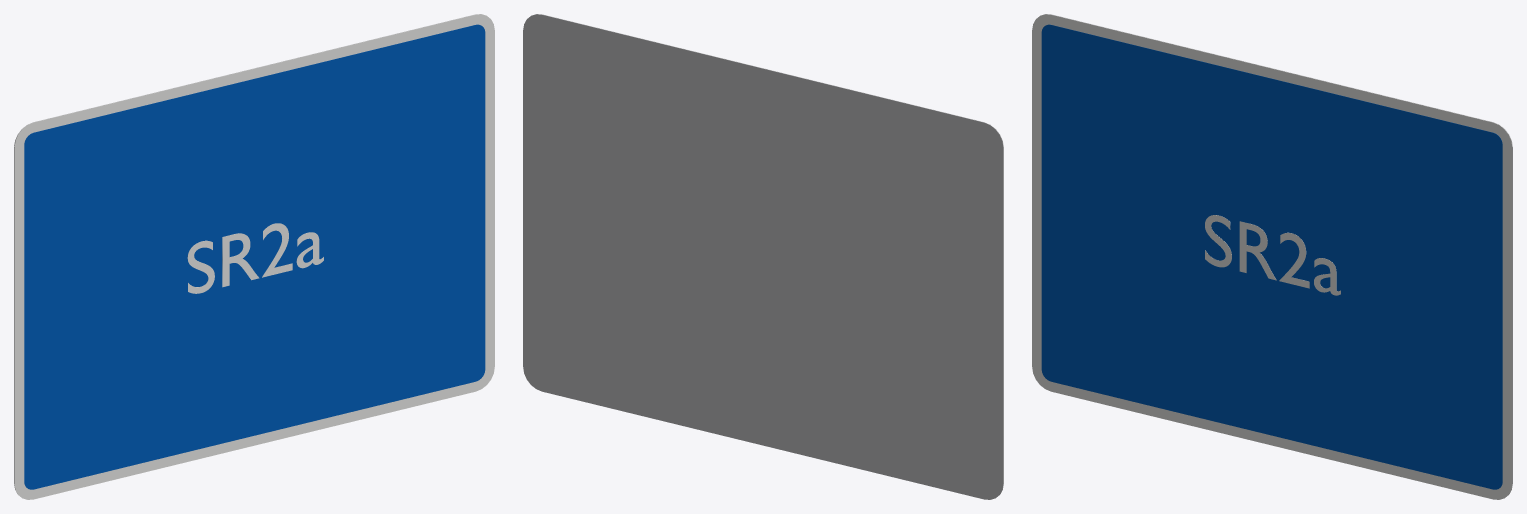
3 renders of one model, left to right at view 1: azimuth 30°, elevation 25°; view 2: azimuth 150°, elevation 25°; view 3: azimuth 330°, elevation 25°, orthographic.
Parts seen in each view (by area): view 1: SR2a_fond01, SR2a_cadre00, SR2a_txt02, SR2a_dos; view 2: SR2a_dos; view 3: SR2a_fond01, SR2a_cadre00, SR2a_txt02, SR2a_dos.
Boxes of the visible parts, x1=… form: SR2a_fond01: x1=24, y1=24, x2=485, y2=489; SR2a_cadre00: x1=14, y1=14, x2=494, y2=499; SR2a_txt02: x1=187, y1=223, x2=323, y2=293; SR2a_dos: x1=14, y1=14, x2=483, y2=493; SR2a_dos: x1=523, y1=14, x2=1003, y2=499; SR2a_fond01: x1=1041, y1=24, x2=1502, y2=489; SR2a_cadre00: x1=1032, y1=14, x2=1512, y2=499; SR2a_txt02: x1=1205, y1=215, x2=1340, y2=295; SR2a_dos: x1=1043, y1=14, x2=1512, y2=493.
Size of the model in its own units: 1 by 0.75 by 0.0025.
